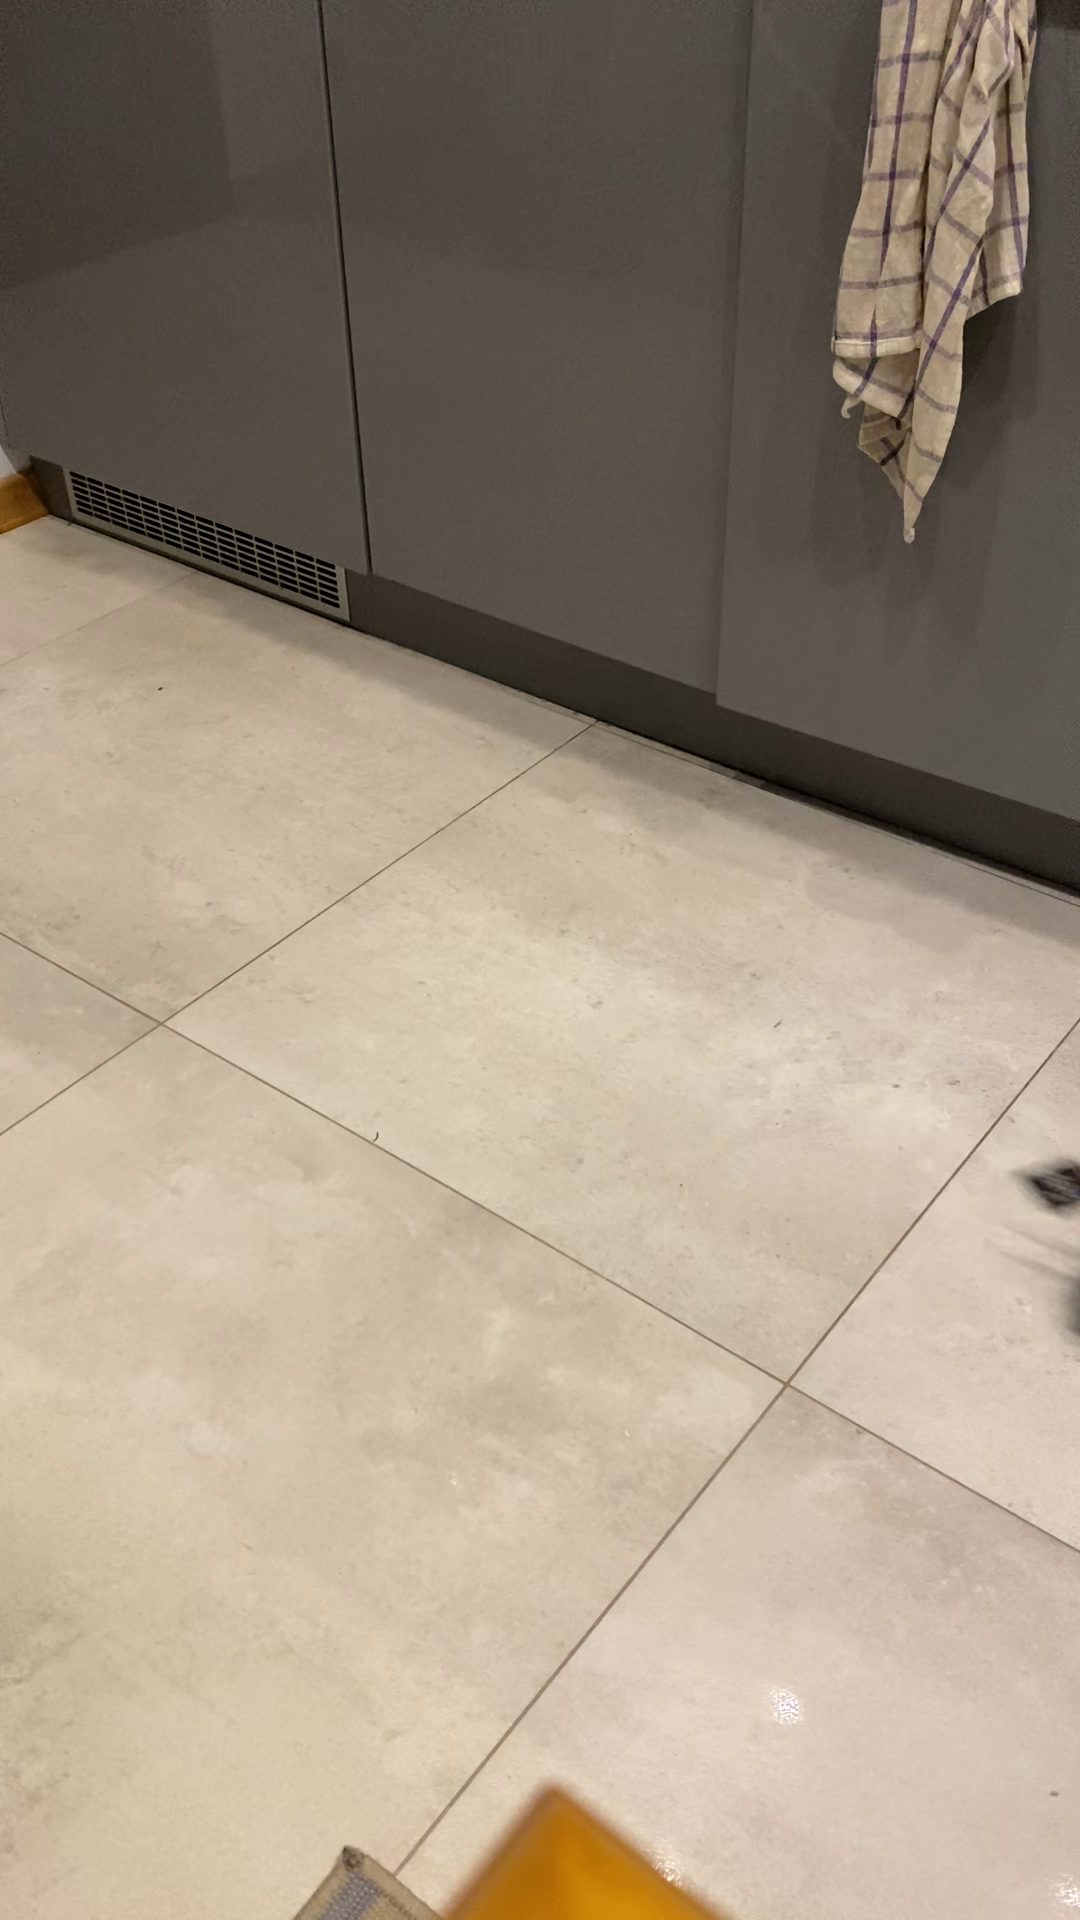car: (1025, 1163, 1080, 1367)
